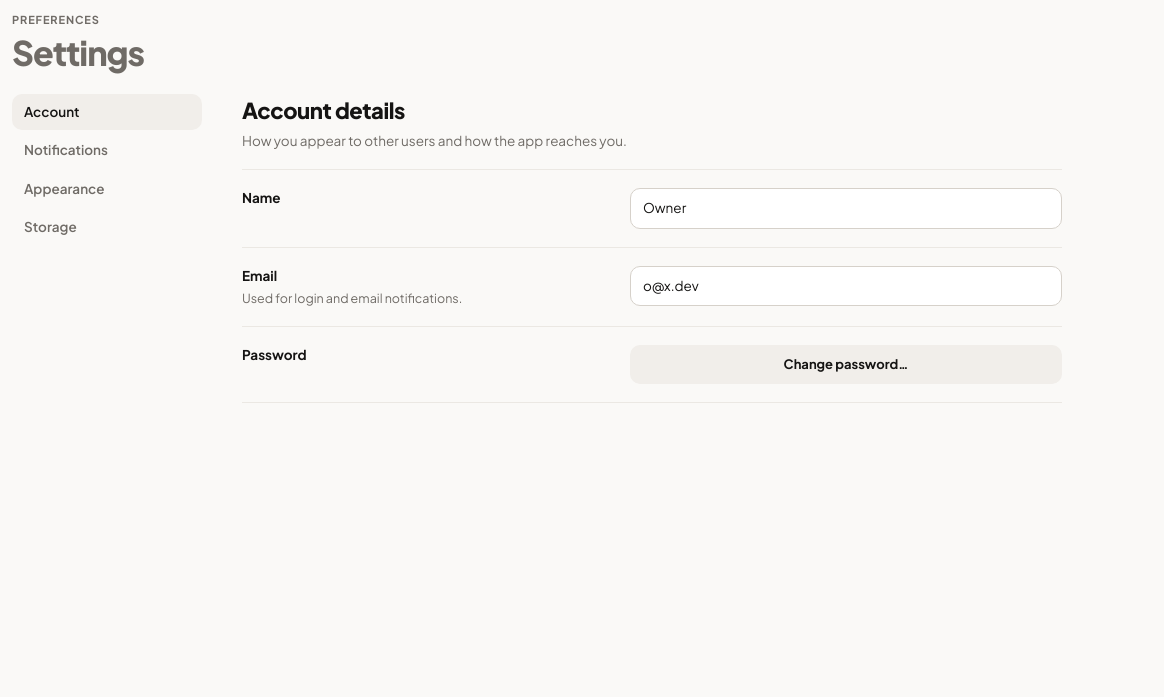
Scenario: new species alerts in Settings › shows the three kinds with the user's settings
This screenshot has width=1164, height=697.
Step 1. Click the button "Notifications" → (107, 151), box [12,132,202,169]
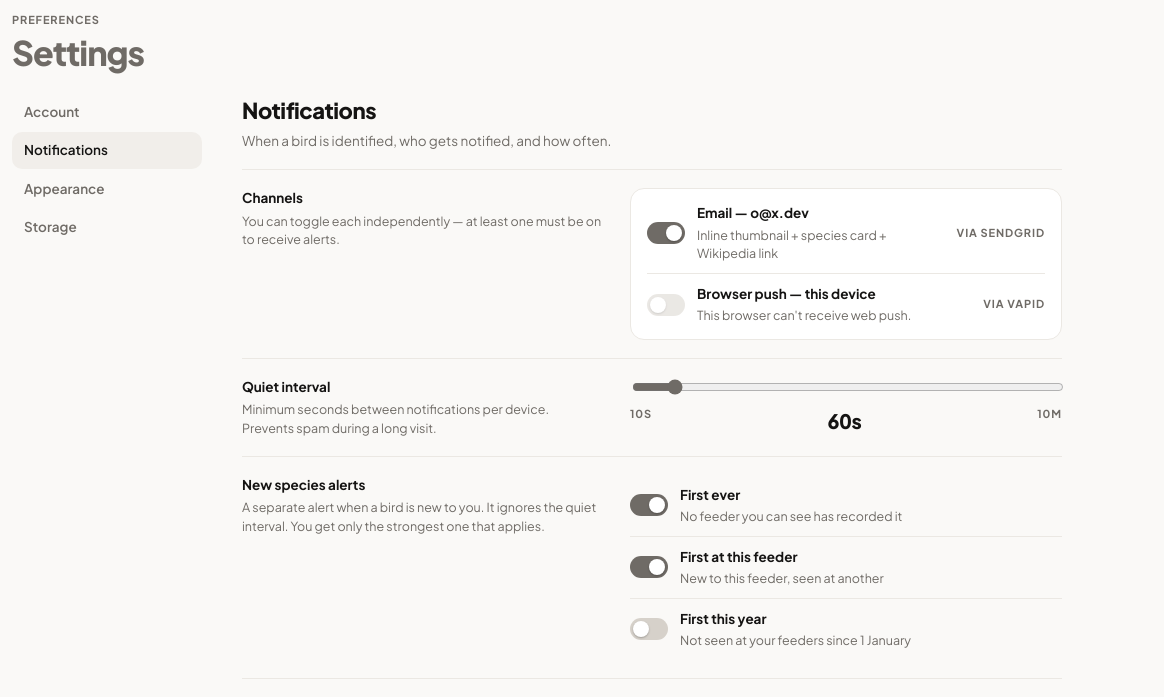
Expected: the text "First ever" is shown, [680,486,740,503]
Expected: the text "First at this feeder" is shown, [680,548,798,565]
Expected: the text "First this year" is shown, [680,610,766,627]
